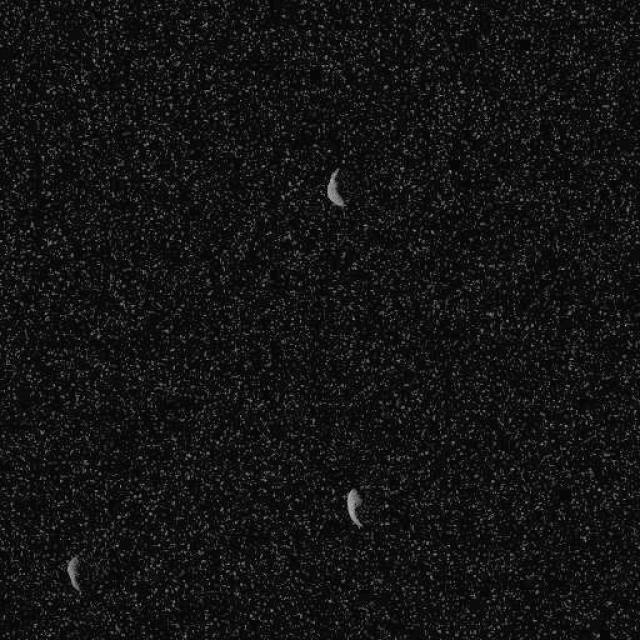D2: (325, 165, 346, 207), (345, 486, 364, 529), (65, 554, 83, 594)
